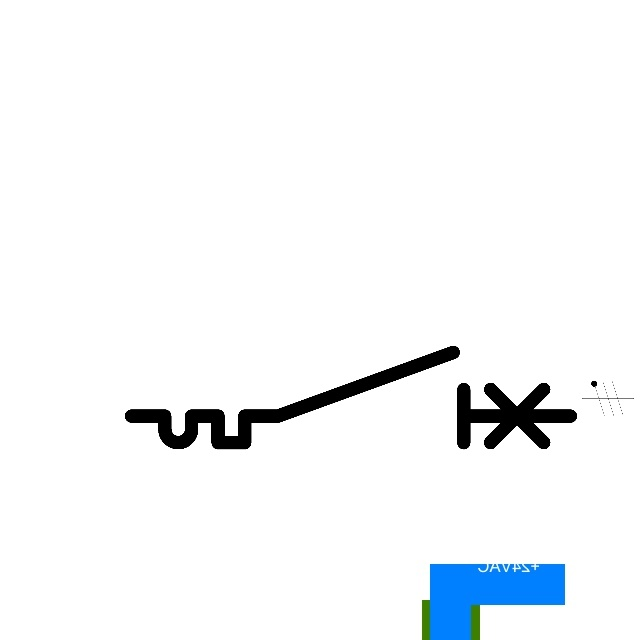interruptor_termomagnetico: (120, 341, 582, 454)
